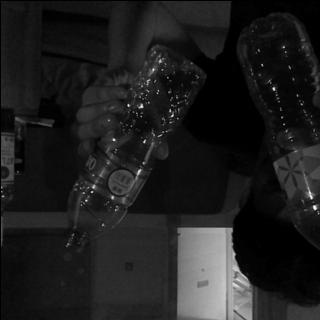plastic_bottles: (62, 50, 206, 251), (238, 20, 317, 250)
